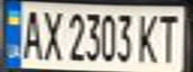0: (100, 10, 118, 63)
2: (63, 8, 87, 63)
3: (81, 9, 103, 63), (115, 10, 136, 63)
A: (18, 4, 45, 61)
K: (133, 10, 163, 64)
T: (154, 10, 184, 64)
X: (39, 7, 66, 62)
